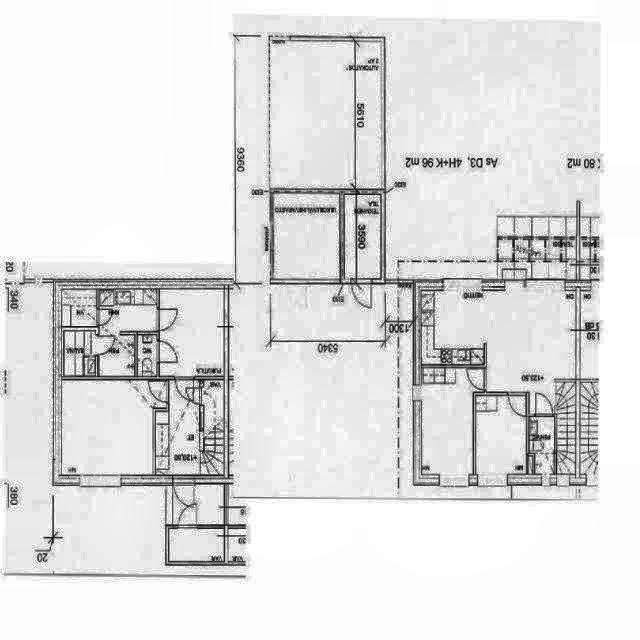room: (156, 381, 223, 474), (160, 290, 224, 375), (476, 396, 527, 475), (345, 195, 380, 277), (173, 486, 224, 524), (169, 529, 224, 562), (170, 529, 224, 561), (530, 417, 554, 473), (62, 290, 97, 326), (137, 335, 156, 376)
